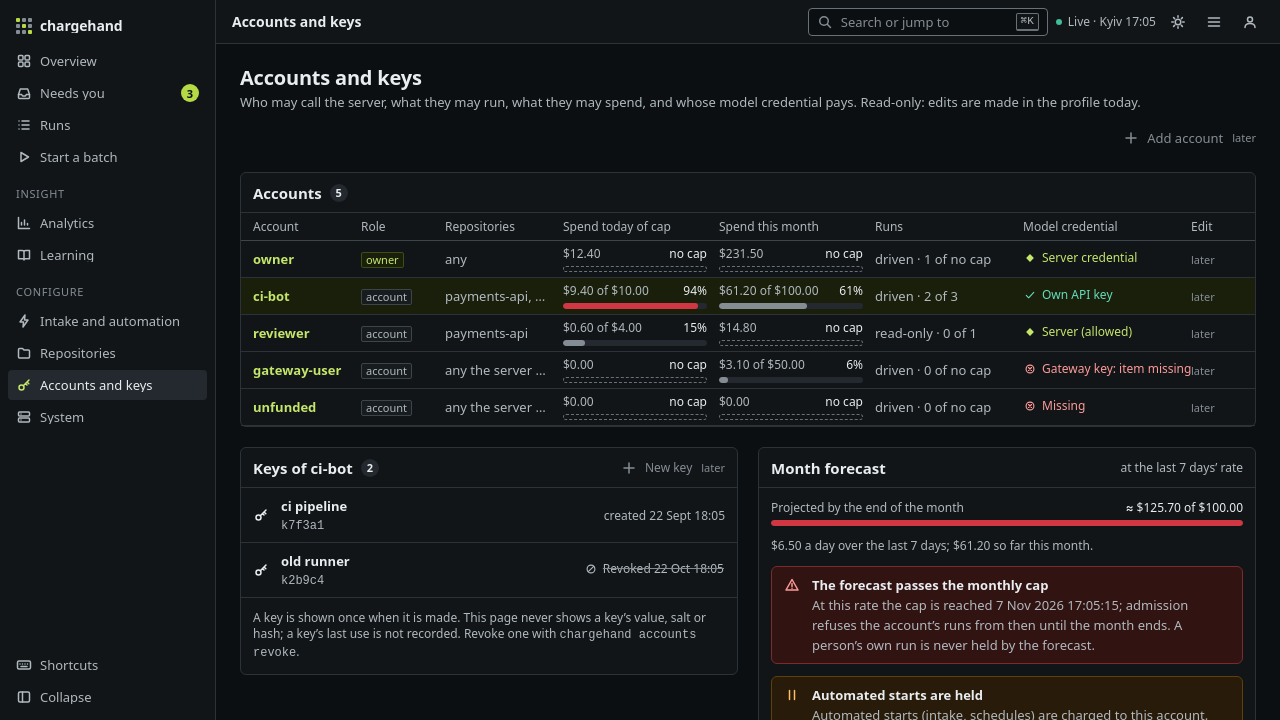
Accounts with data › explains that the owner has no stored key
This screenshot has width=1280, height=720.
Expected: the table named "Accounts" is shown, x1=241 y1=213 x2=1255 y2=426
Click the button "owner" at x=274, y=259, box x1=253 y1=249 x2=294 y2=269
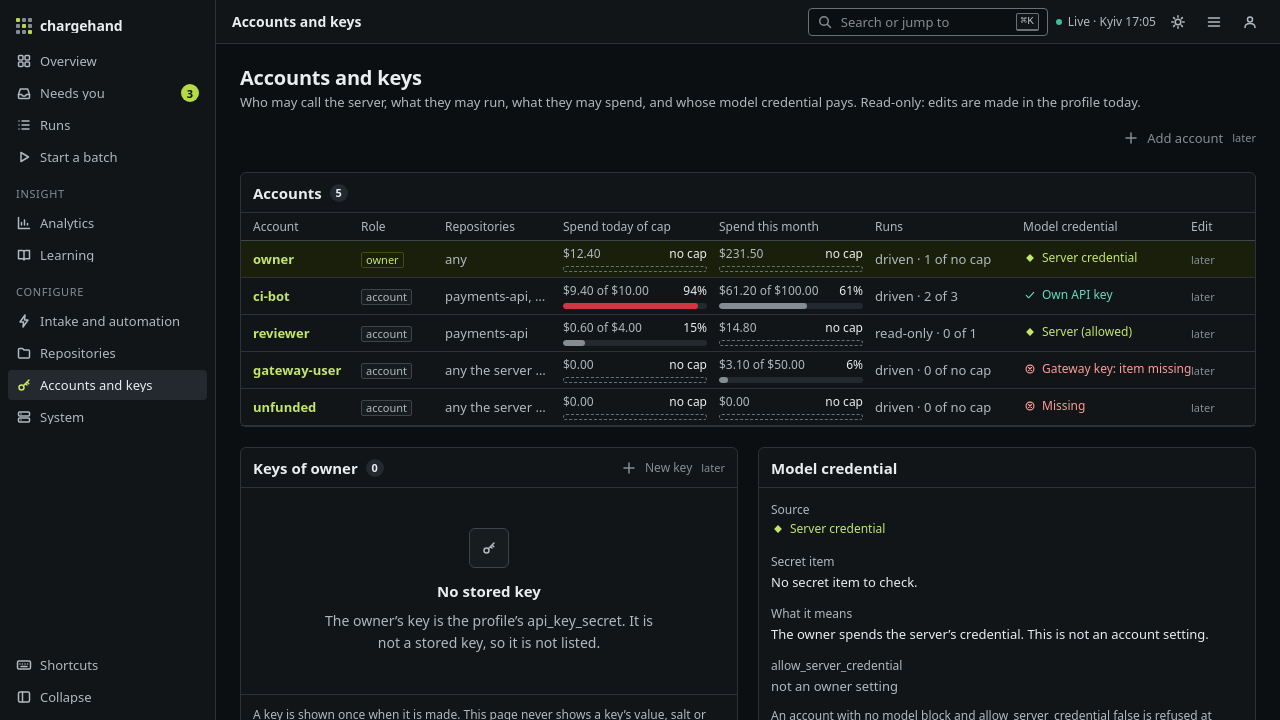
Now the text "The owner’s key is the profile’s api_key_secret" is shown, box x1=325 y1=611 x2=653 y2=652
Now the text "not an owner setting" is shown, box x1=771 y1=677 x2=898 y2=695
